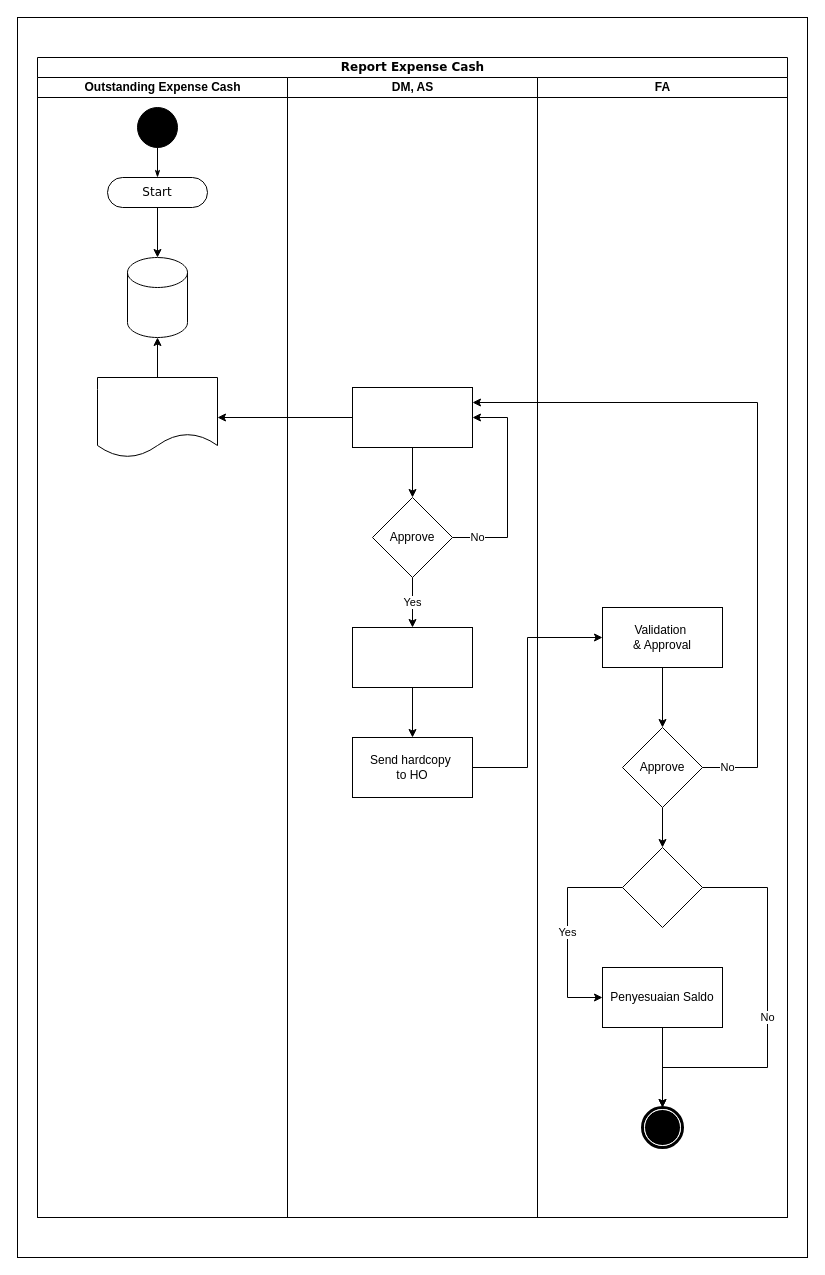
Some shapes in this 825 by 1275 pixel diagram are drawn without their labels. Here are the shapes that lost their labels. From the top down, the centre of each, then its label:
the point at 157,297: Data PMS
the point at 157,417: Data Outstanding Expense Cash
the point at 412,417: Create Report Expense
the point at 412,657: Export Report to Excel
the point at 662,887: Saldo Sisa
